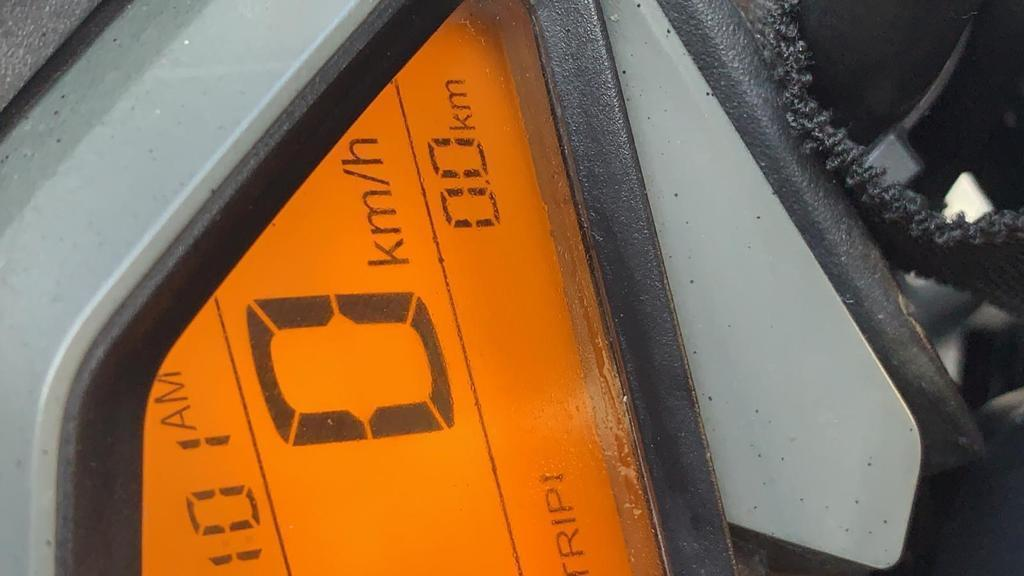,: (483, 178, 491, 185)
0: (238, 289, 461, 451), (182, 482, 262, 538), (432, 185, 504, 232), (424, 134, 491, 178)
1: (205, 544, 264, 571), (173, 434, 233, 453), (533, 466, 573, 486)
X: (357, 188, 403, 235), (337, 135, 385, 166), (364, 236, 412, 266), (151, 368, 190, 403), (336, 166, 392, 187), (158, 403, 197, 432), (443, 77, 473, 111), (555, 527, 586, 557), (545, 488, 574, 513), (446, 112, 477, 132), (559, 560, 591, 576), (549, 515, 577, 525)
odometer: (123, 0, 681, 576)
